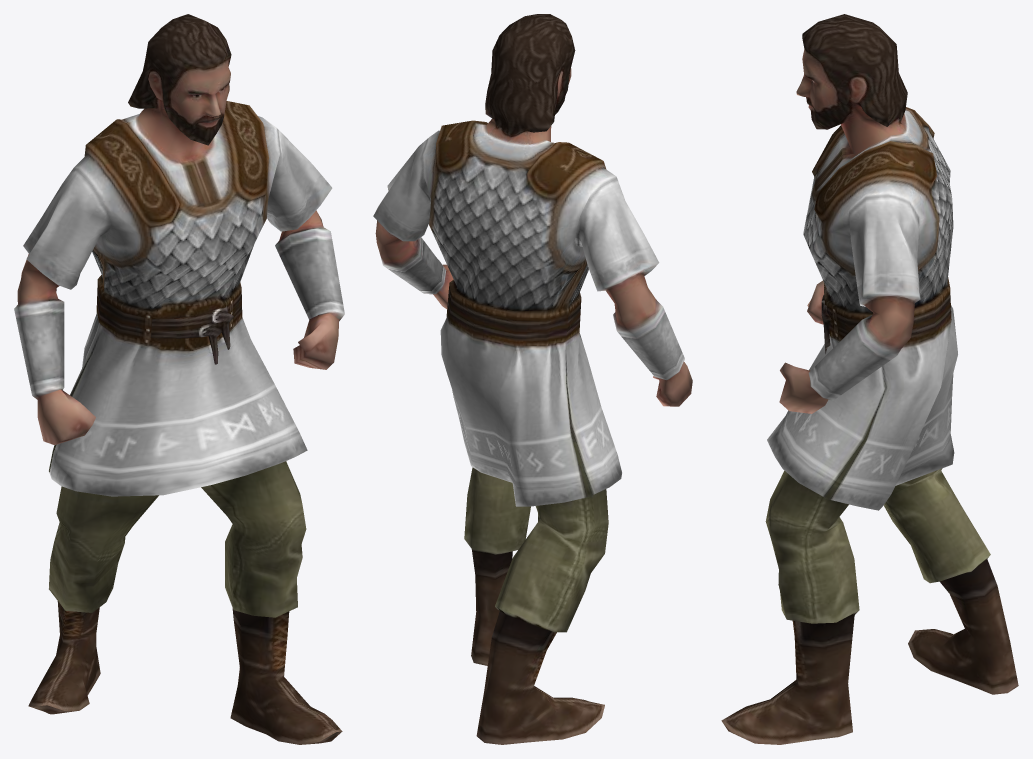
Rendered from body-heavyinfantry.glb.
3 views of the same model, side by side, from view 1: azimuth 30°, elevation 25°; view 2: azimuth 150°, elevation 25°; view 3: azimuth 270°, elevation 25° (orthographic). The views are drawn at different scales.
Size of the model in its own units: 0.9146 by 2 by 0.7893.
1 material, 1 textured.
